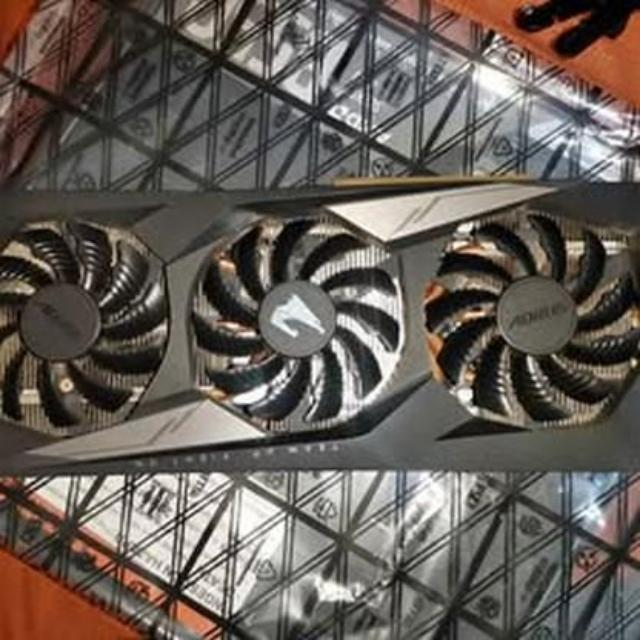GPU: (0, 162, 640, 478)
